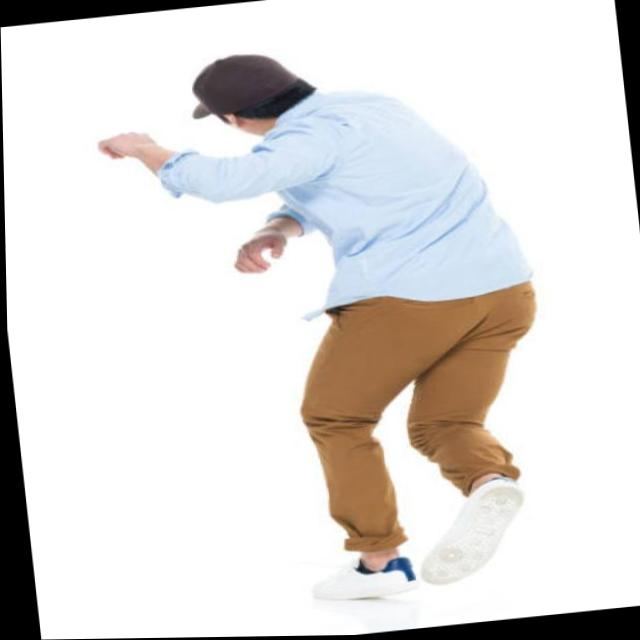no helmet: (156, 28, 357, 152)
